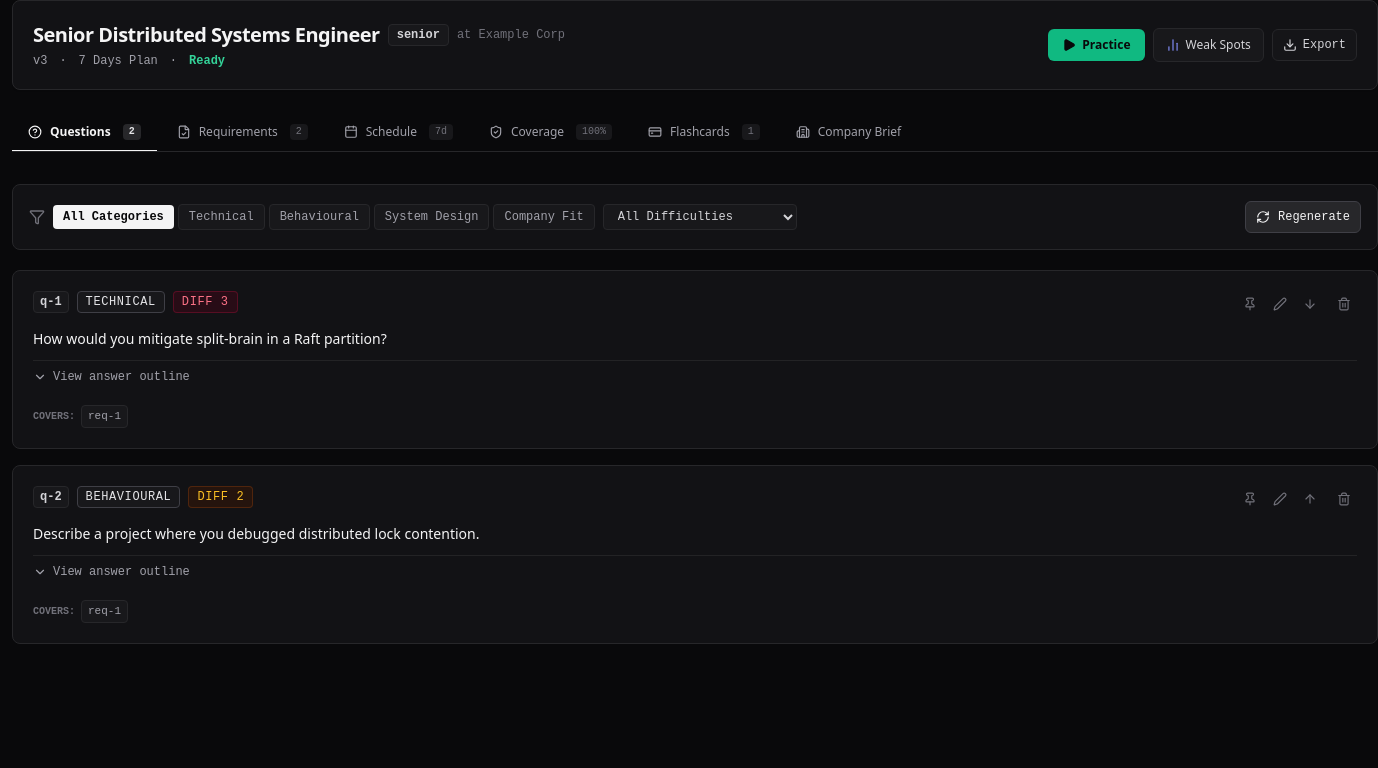
Test case: KitViewer › handles 409 VERSION_CONFLICT gracefully with alert message
Click the button titled "pin question" in the row of "Diff 3" at (1250, 304), box [1237,291,1263,317]
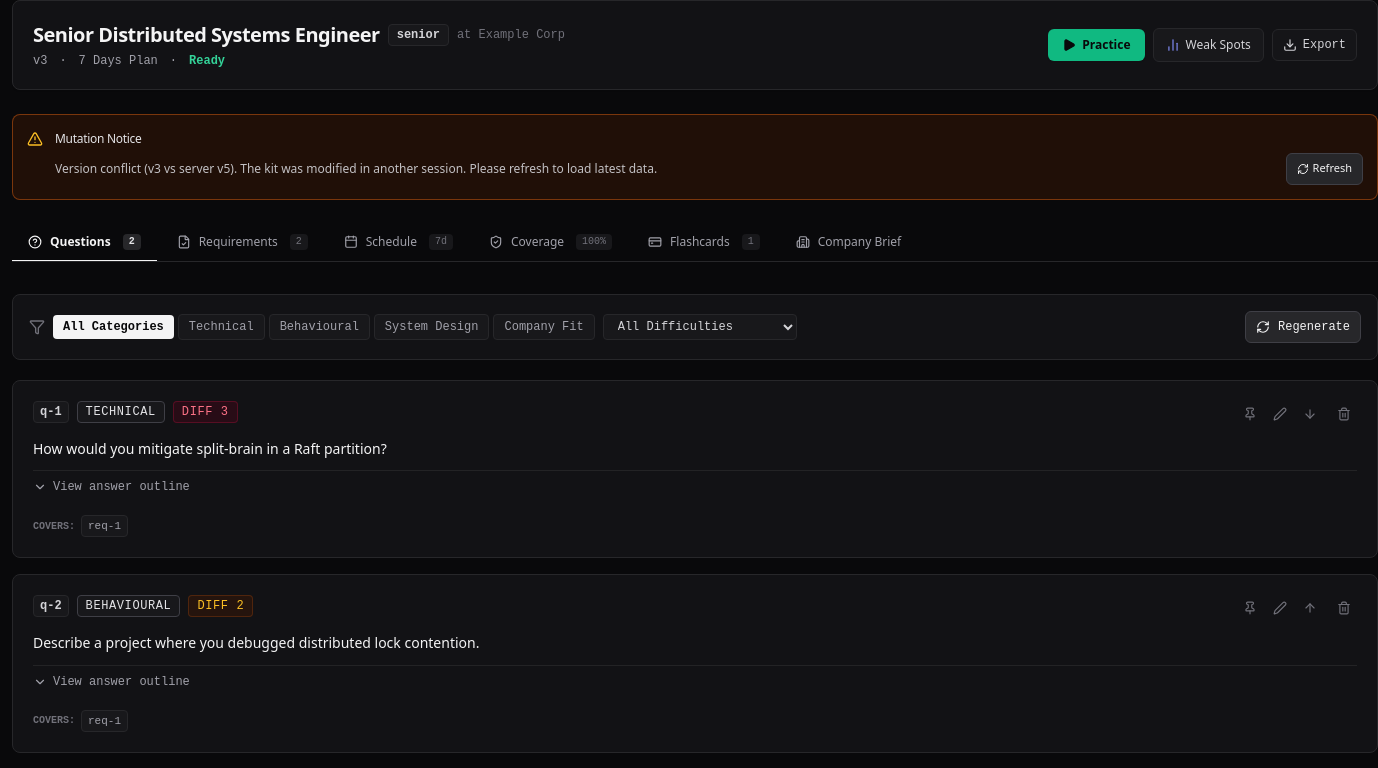
Now the text "Version conflict (v3 vs server v5)" is shown, box [55,160,657,176]
